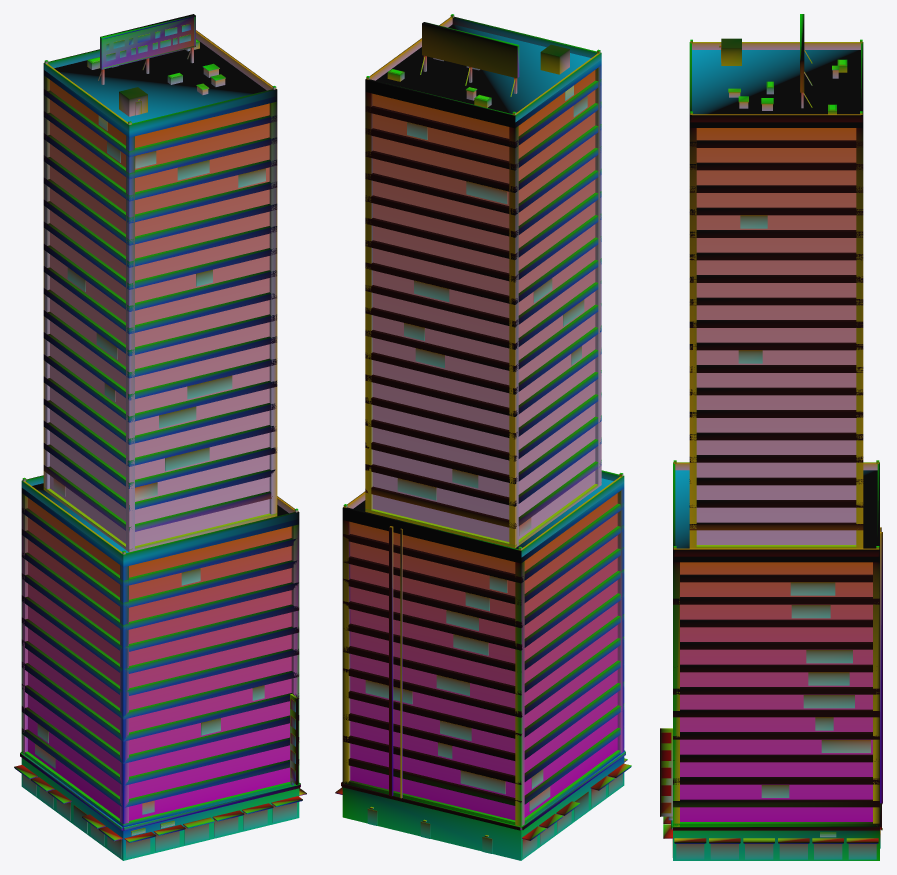
The model's file is Tower_Pad_V6.fbx.
The picture shows the model from 3 angles, left to right: view 1: azimuth 30°, elevation 25°; view 2: azimuth 150°, elevation 25°; view 3: azimuth 270°, elevation 25°; orthographic projection.
Parts seen in each view (by area): view 1: Tower_Pad_V6_LOD0; view 2: Tower_Pad_V6_LOD0; view 3: Tower_Pad_V6_LOD0.
Part boxes in pixels (x1,y1,x2,y2): Tower_Pad_V6_LOD0: (14,14,306,860); Tower_Pad_V6_LOD0: (335,14,631,860); Tower_Pad_V6_LOD0: (660,14,882,860).
Size of what is drawn, in the model's own units: 32.8 by 125 by 32.31.
